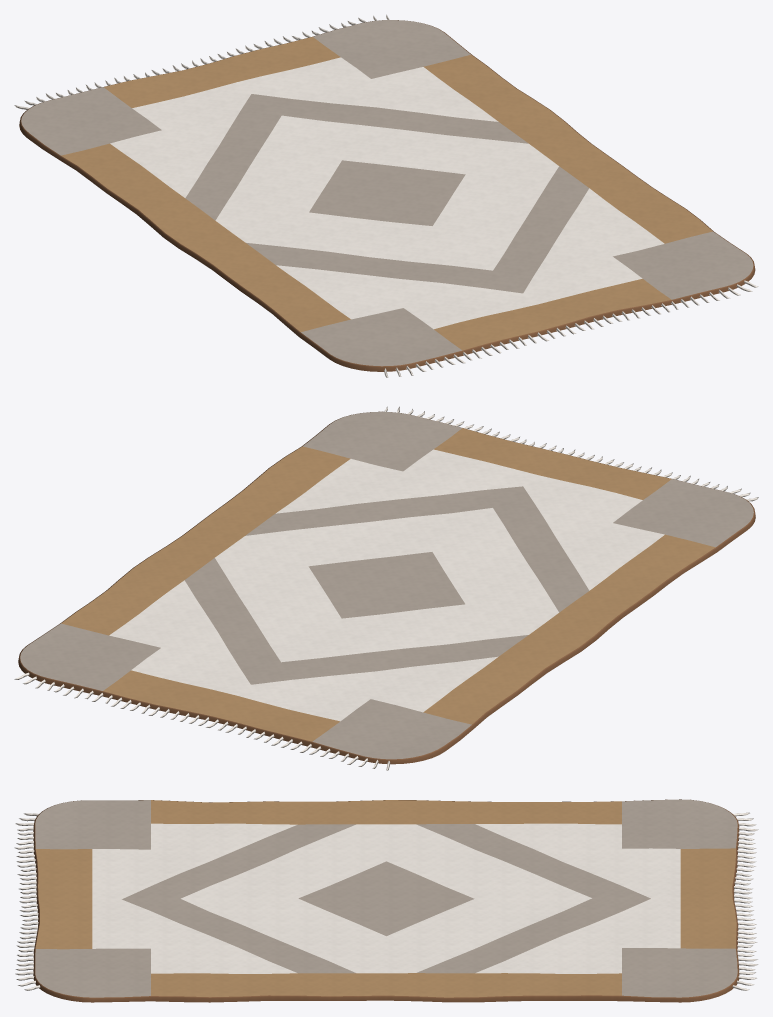
Rendered from rug.glb.
3 renders of one model, top to bottom at view 1: azimuth 30°, elevation 25°; view 2: azimuth 150°, elevation 25°; view 3: azimuth 270°, elevation 25°, orthographic. The views are drawn at different scales.
Visible parts, largest first — view 1: wool-rug-field, wool-rug-motif, wool-rug-border, wool-rug-backing, wool-rug-fringe; view 2: wool-rug-field, wool-rug-motif, wool-rug-border, wool-rug-backing, wool-rug-fringe; view 3: wool-rug-field, wool-rug-motif, wool-rug-border, wool-rug-backing, wool-rug-fringe.
Boxes of the visible parts, x1,y1,x2,y2 form: wool-rug-field: (110, 57, 664, 329); wool-rug-motif: (21, 20, 753, 366); wool-rug-border: (61, 36, 712, 350); wool-rug-backing: (19, 20, 755, 371); wool-rug-fringe: (14, 14, 758, 377); wool-rug-field: (109, 449, 664, 721); wool-rug-motif: (20, 411, 753, 759); wool-rug-border: (61, 428, 715, 741); wool-rug-backing: (18, 411, 755, 764); wool-rug-fringe: (14, 406, 758, 770); wool-rug-field: (92, 823, 680, 973); wool-rug-motif: (35, 799, 737, 997); wool-rug-border: (35, 800, 736, 997); wool-rug-backing: (33, 799, 739, 1002); wool-rug-fringe: (14, 812, 758, 990).
Bounding box in the file's own units: 2 × 0.0232 × 3.16.
5 materials, 5 textured.
